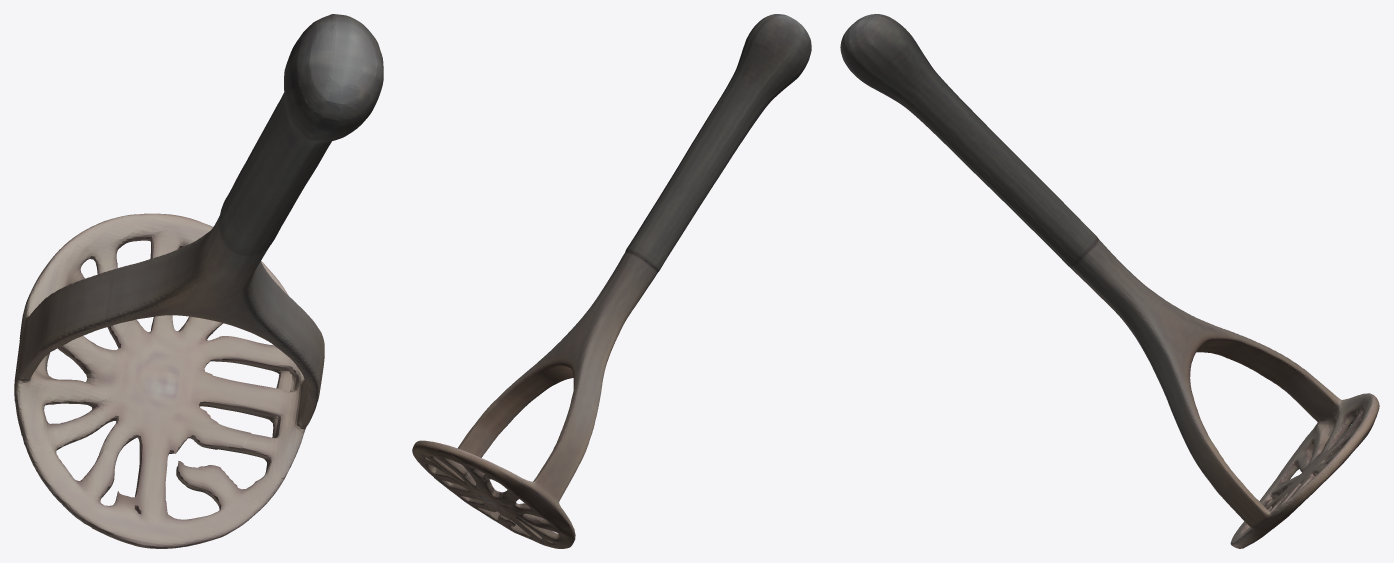
File: frame_0022_source_000022_object.glb
3 views of the same model, side by side, from view 1: azimuth 30°, elevation 25°; view 2: azimuth 150°, elevation 25°; view 3: azimuth 270°, elevation 25° (orthographic). The views are drawn at different scales.
Visible parts, largest first — view 1: world; view 2: world; view 3: world.
Boxes of the visible parts, left/top/right/bottom form: world: left=14, top=14, right=383, bottom=548; world: left=412, top=14, right=811, bottom=548; world: left=840, top=14, right=1379, bottom=548.
Size of the model in its own units: 0.0979 by 0.206 by 0.2098.
